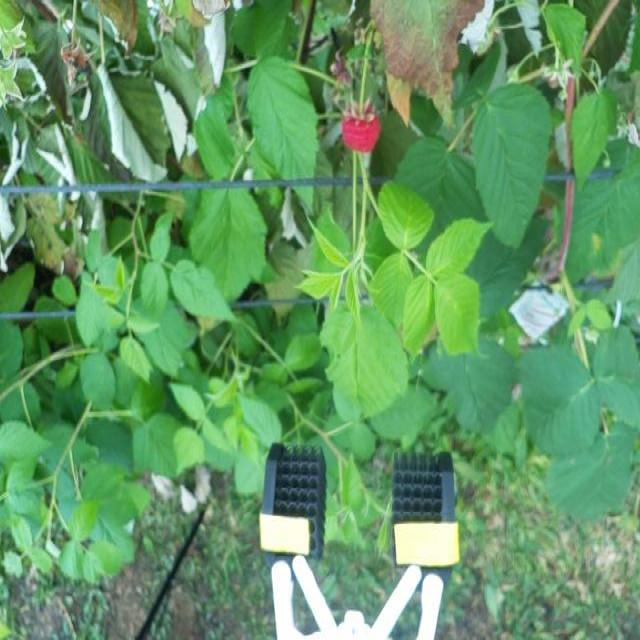Riped berries: (338, 102, 382, 154)
